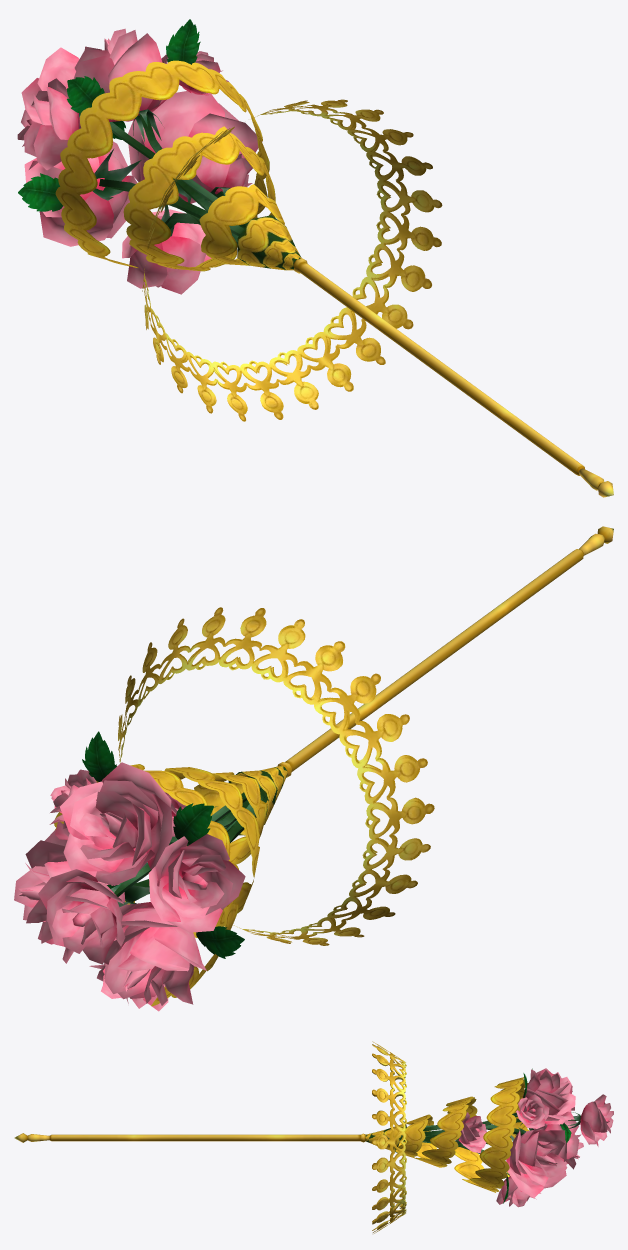
Rendered from change_venus_weapon.glb.
The picture shows the model from 3 angles, top to bottom: view 1: azimuth 30°, elevation 25°; view 2: azimuth 150°, elevation 25°; view 3: azimuth 270°, elevation 25°; orthographic projection. The views are drawn at different scales.
Size of the model in its own units: 0.6008 by 0.6011 by 1.84.
3 materials, 3 textured.
